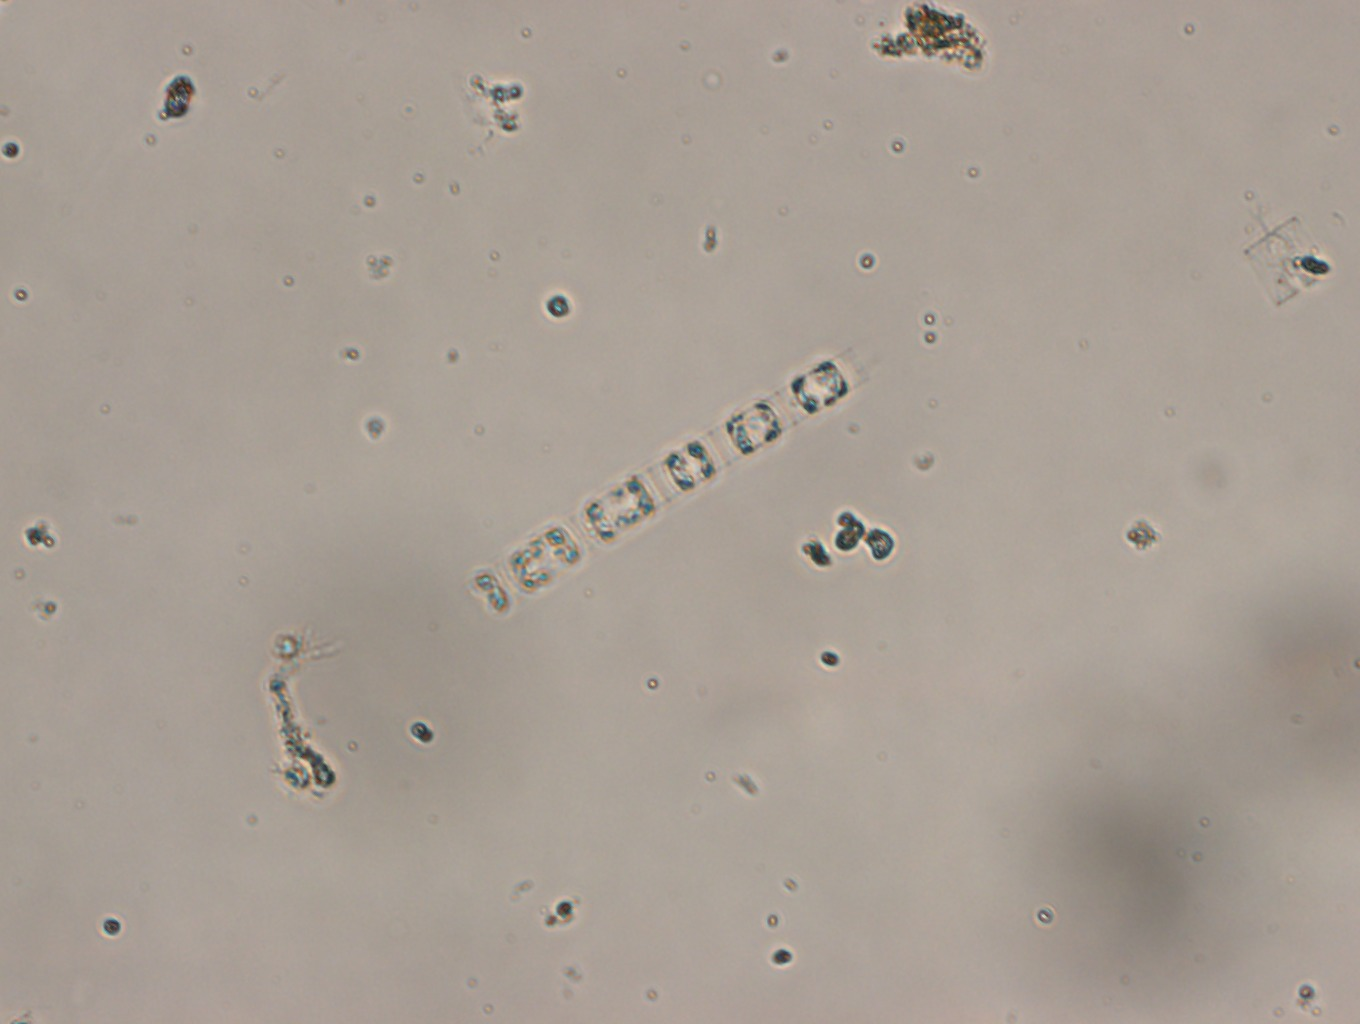skeletonema: (466, 350, 865, 627)
